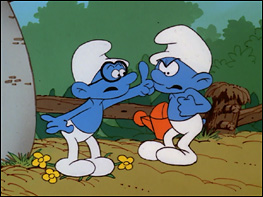smurf: (41, 38, 139, 178), (136, 21, 213, 166)
